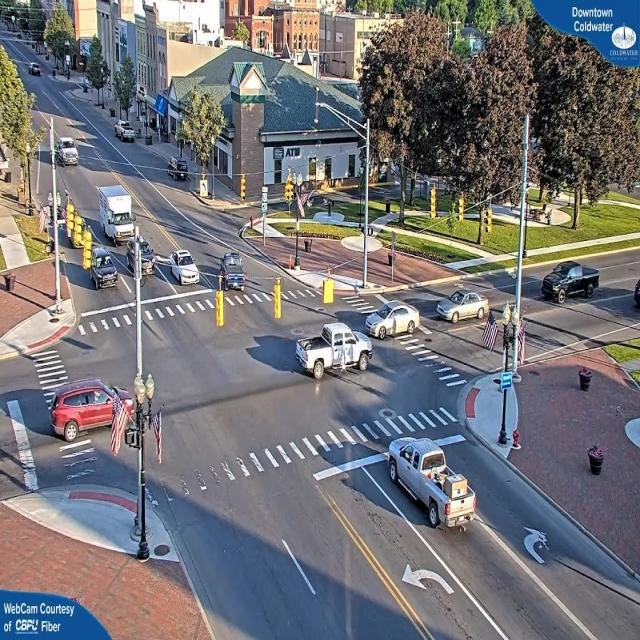car: (386, 439, 475, 537), (44, 381, 136, 445), (292, 322, 368, 377), (542, 262, 602, 300), (363, 299, 418, 339), (434, 286, 488, 325), (125, 233, 157, 279), (217, 250, 246, 293), (166, 251, 199, 286), (90, 253, 118, 290), (53, 137, 78, 168), (165, 158, 189, 180), (116, 122, 136, 143), (632, 277, 639, 313)
truck: (101, 184, 138, 245)
